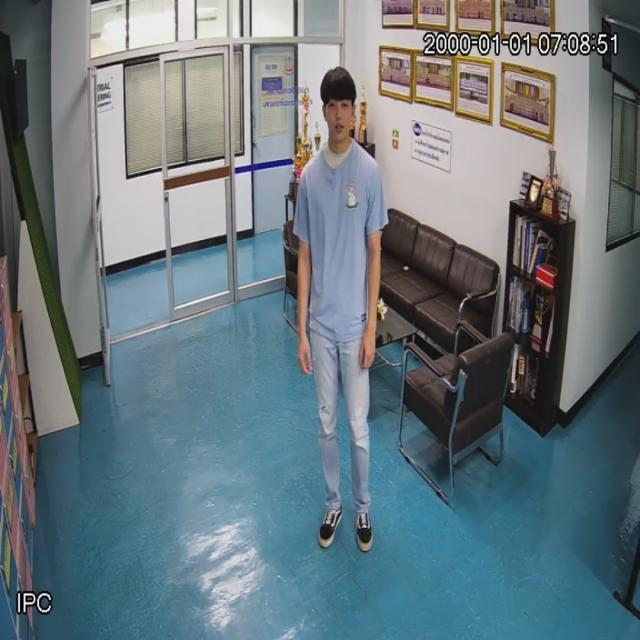normal: (296, 67, 388, 553)
